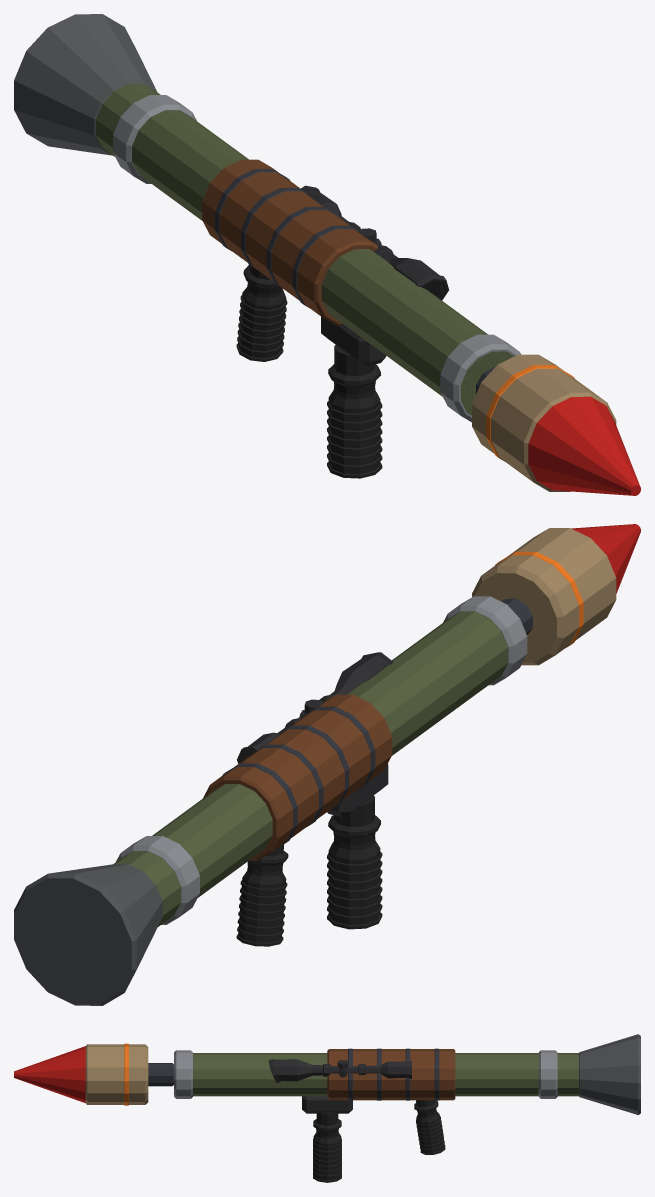
Rendered from rocket_launcher.glb.
3 renders of one model, top to bottom at view 1: azimuth 30°, elevation 25°; view 2: azimuth 150°, elevation 25°; view 3: azimuth 270°, elevation 25°, orthographic. The views are drawn at different scales.
Parts seen in each view (by area): view 1: rocket_launcher; view 2: rocket_launcher; view 3: rocket_launcher.
Part boxes in pixels (box(x1,y1,x2,y2)): rocket_launcher: box(14, 14, 640, 495); rocket_launcher: box(14, 524, 640, 1005); rocket_launcher: box(14, 1034, 640, 1182).
Bounding box in the file's own units: 0.0994 × 0.1925 × 0.788.
